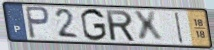2: (55, 7, 81, 42)
G: (79, 8, 109, 43)
I: (174, 11, 185, 45)
P: (23, 5, 51, 40)
R: (104, 9, 137, 43)
X: (131, 10, 165, 43)
